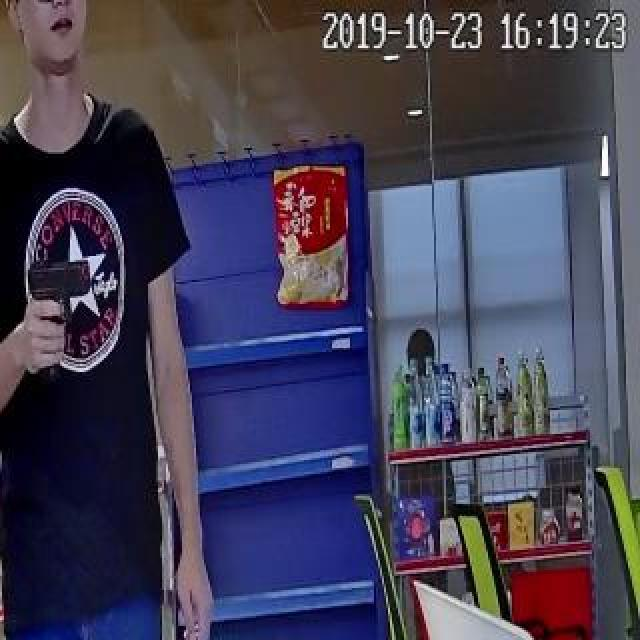Guns: (23, 254, 98, 331)
